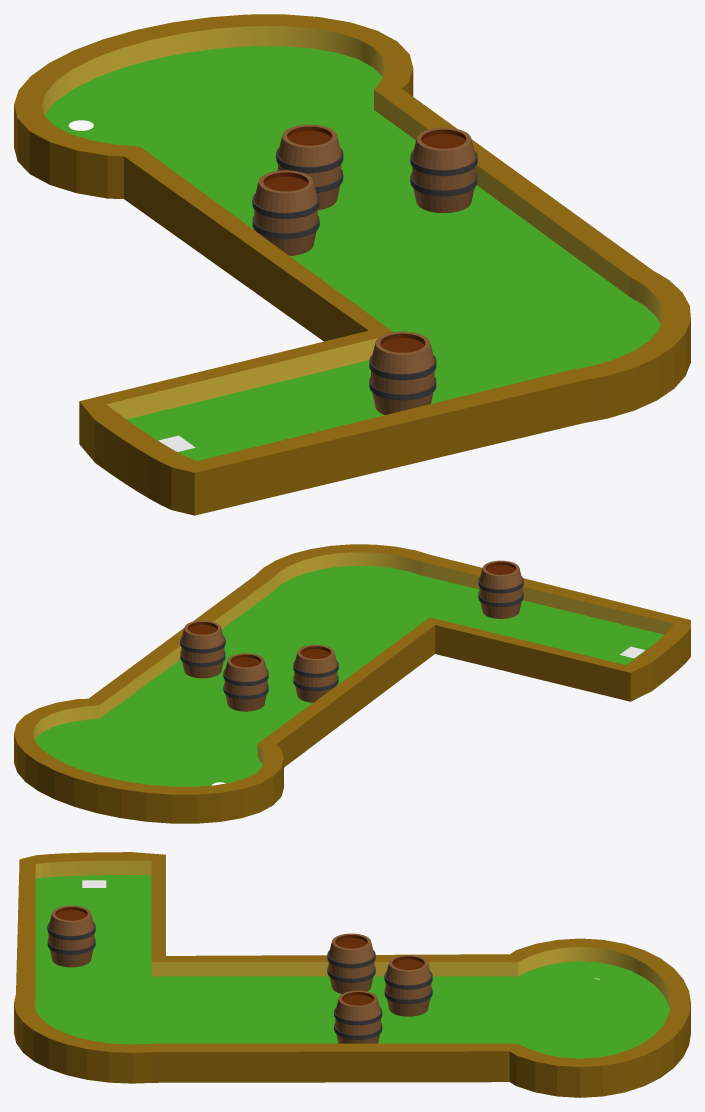
File: playgroundLvl3Finalnot.glb
3 renders of one model, top to bottom at view 1: azimuth 30°, elevation 25°; view 2: azimuth 150°, elevation 25°; view 3: azimuth 270°, elevation 25°, orthographic. The views are drawn at different scales.
Visible parts, largest first — view 1: Circle; view 2: Circle; view 3: Circle.
Boxes of the visible parts, x1,y1,x2,y2 form: Circle: (14, 14, 690, 515); Circle: (14, 544, 690, 823); Circle: (14, 852, 690, 1097).
Bounding box in the file's own units: 25.87 × 3.48 × 34.42.
